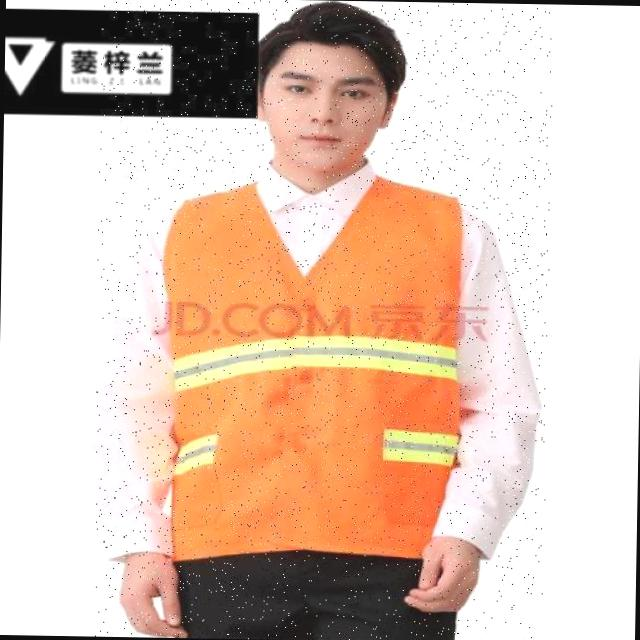no-gloves: (374, 522, 561, 625), (70, 520, 220, 638)
no-helmet: (216, 1, 408, 233)
vest: (154, 176, 476, 560)
